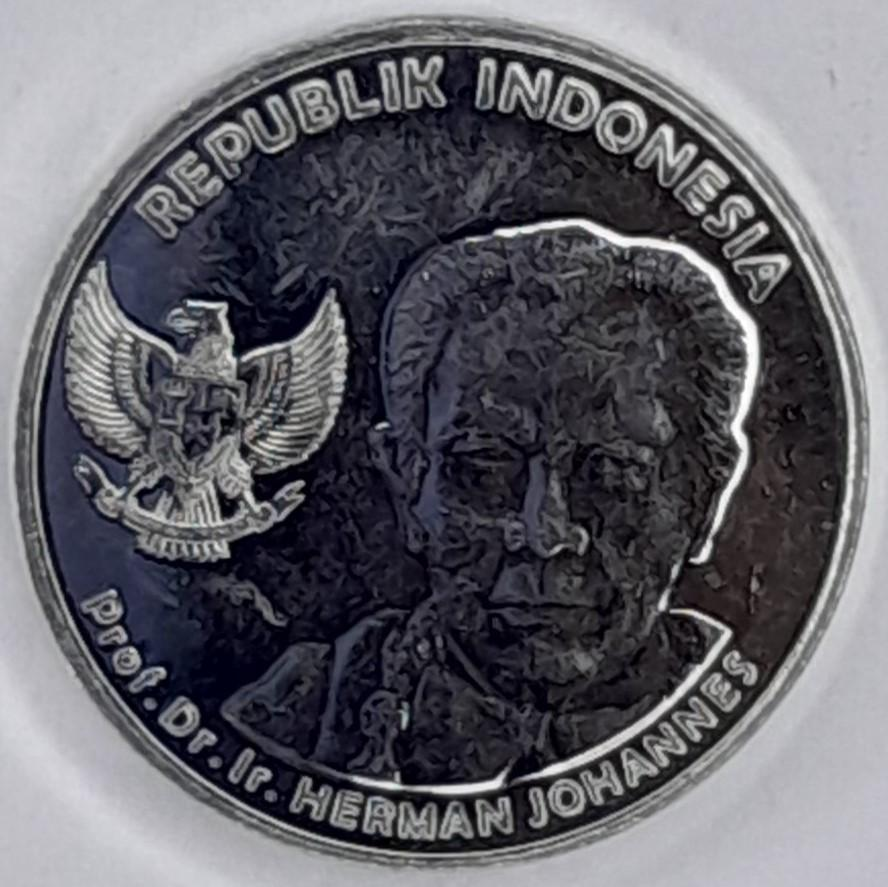coin_100_e2016: (7, 12, 871, 867)
